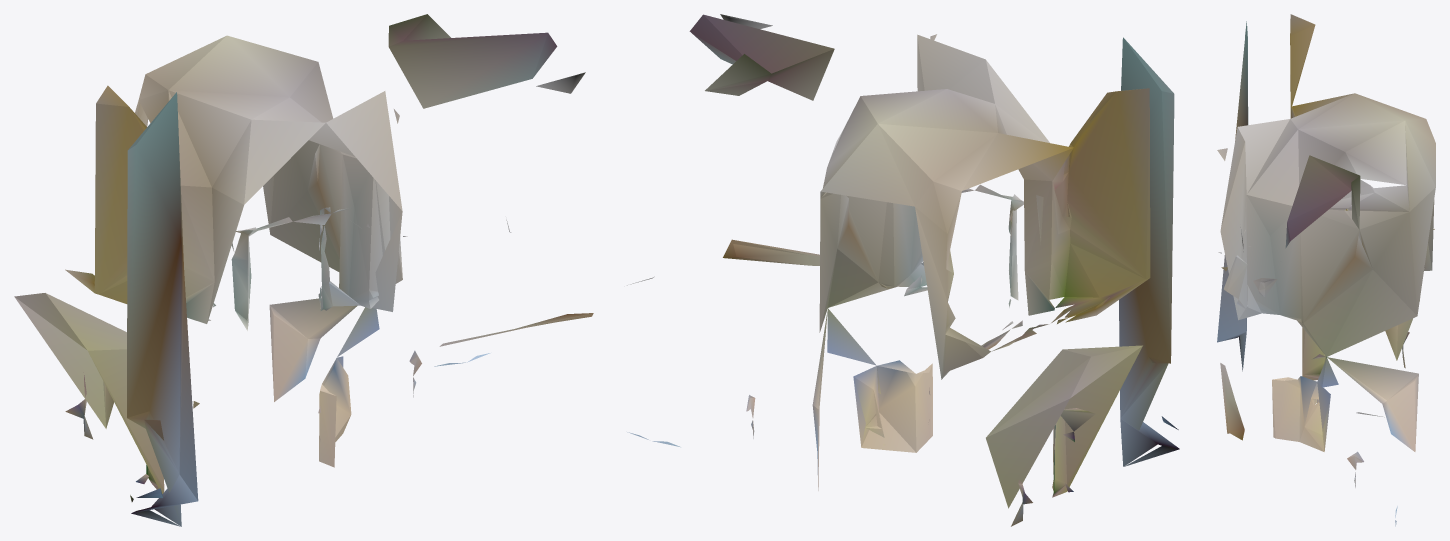
3 renders of one model, left to right at view 1: azimuth 30°, elevation 25°; view 2: azimuth 150°, elevation 25°; view 3: azimuth 270°, elevation 25°, orthographic. The views are drawn at different scales.
Bounding box in the file's own units: 10.2 × 9.01 × 5.06.
